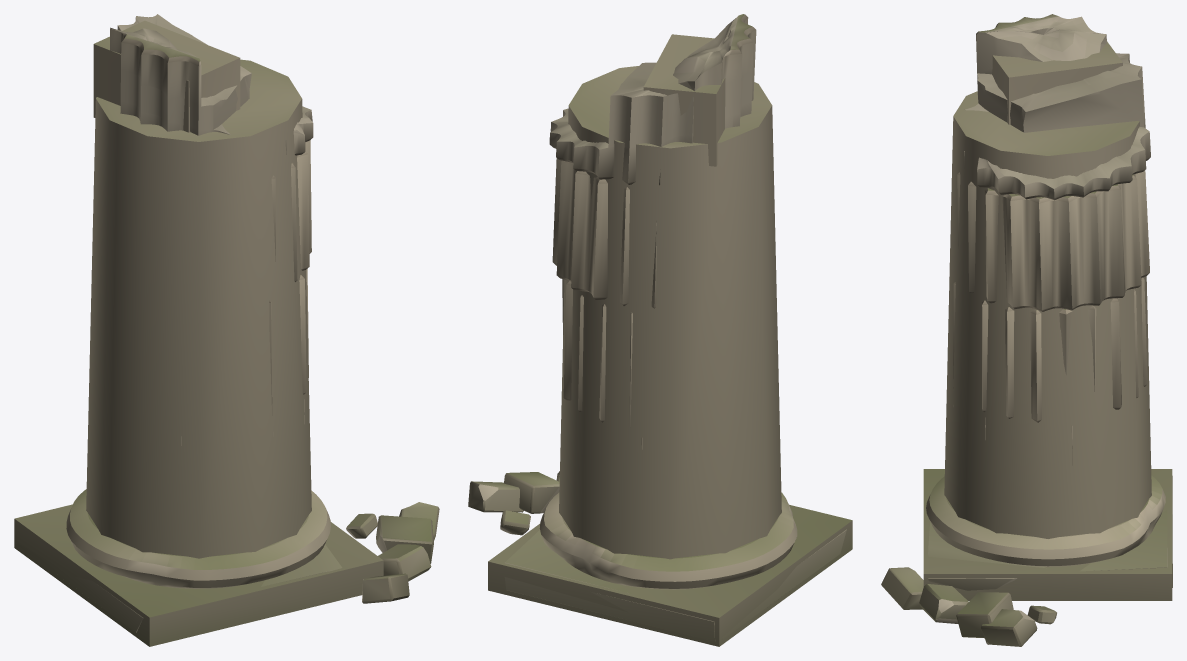
The model's file is column_broken.glb.
The picture shows the model from 3 angles, left to right: view 1: azimuth 30°, elevation 25°; view 2: azimuth 150°, elevation 25°; view 3: azimuth 270°, elevation 25°; orthographic projection. The views are drawn at different scales.
Parts seen in each view (by area): view 1: column_broken_far, column_broken; view 2: column_broken_far, column_broken; view 3: column_broken_far, column_broken.
Boxes of the visible parts, x1=… form: column_broken_far: x1=14, y1=20, x2=383, y2=646; column_broken: x1=17, y1=14, x2=439, y2=632; column_broken_far: x1=488, y1=34, x2=852, y2=646; column_broken: x1=468, y1=14, x2=846, y2=641; column_broken_far: x1=923, y1=41, x2=1172, y2=600; column_broken: x1=881, y1=14, x2=1172, y2=646.
Bounding box in the file's own units: 7.24 × 11.37 × 5.87.
